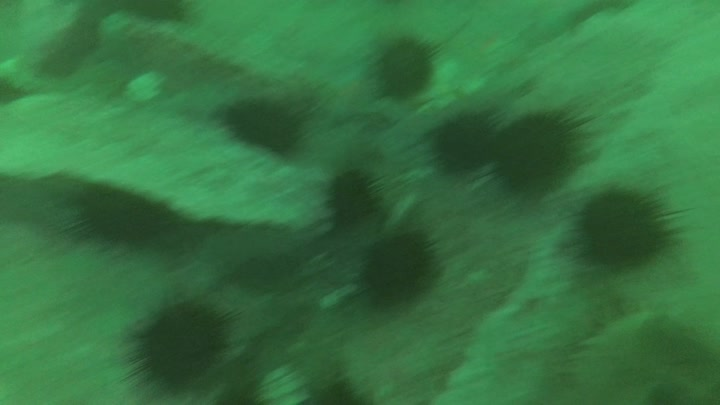echinus: (49, 176, 188, 267), (123, 289, 240, 392), (487, 109, 592, 207), (567, 184, 676, 272), (356, 229, 443, 310), (212, 94, 310, 164), (369, 36, 449, 107), (432, 113, 501, 178), (321, 163, 385, 230), (297, 377, 375, 405)
